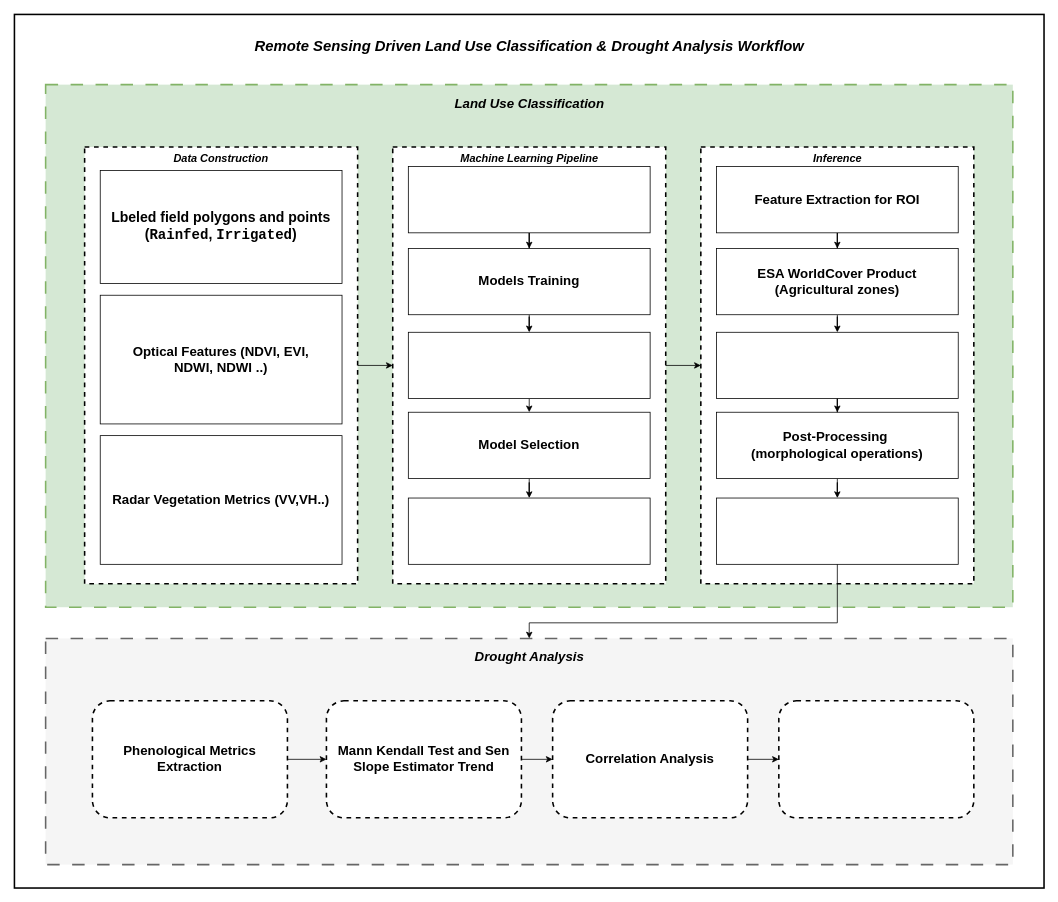
This 1058x902 diagram has some shape labels left out. Here are the shapes that lost their labels. From the top down, the centre of each, then its label:
At (529,199): "Data Preparation".
At (529,365): "Models Evaluation & Validation".
At (837,365): "Generate Land Use Map (Rainfed / Irrigated)".
At (529,530): "Model explainability".
At (837,530): "Unchanged Rainfed Mask".
At (876,759): "Drought Assessment".
